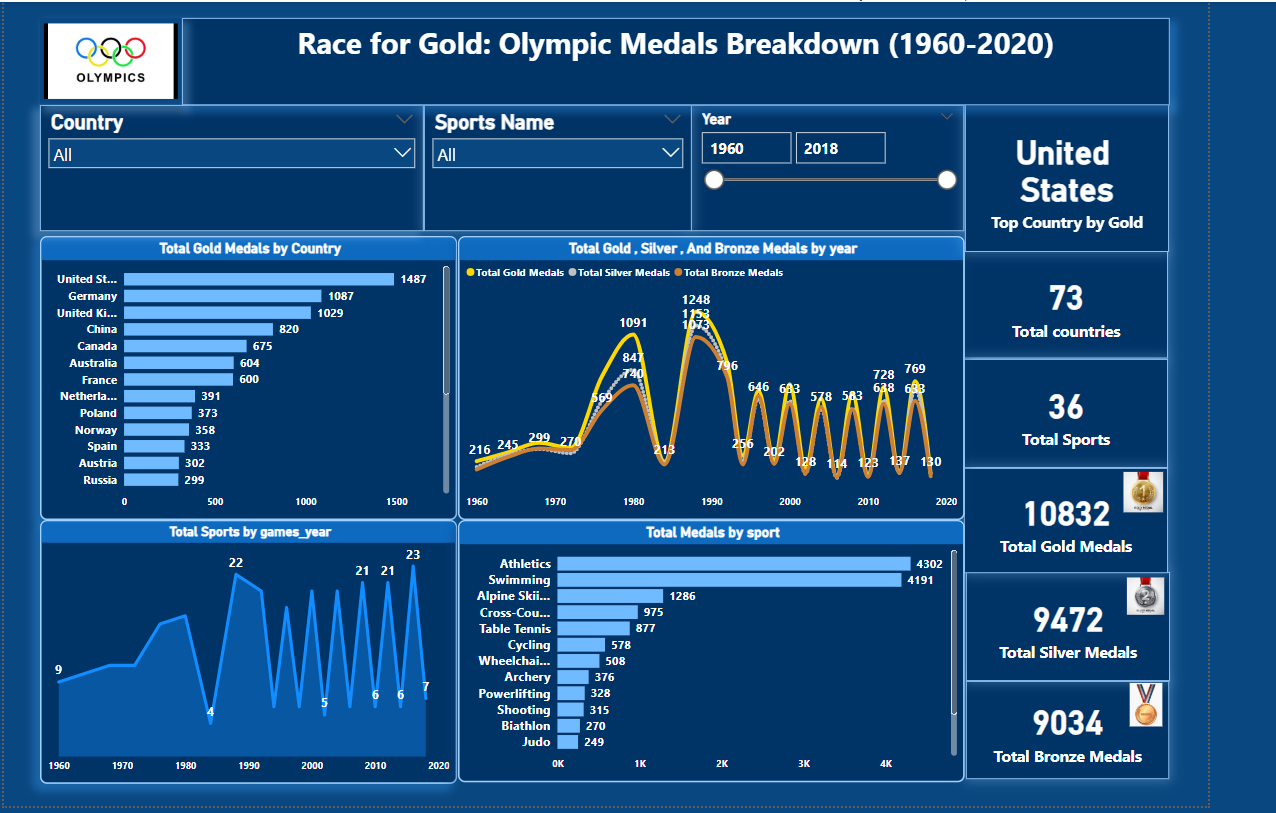

Layout of this report page (visuals, bound fields, positions):
{"tool":"powerbi","page":{"name":"Page 1","canvas":[1548,1033],"ordinal":0},"visuals":[{"type":"card","fields":{"Values":["Sheet1.Total countries"]},"box":[1233.8,320.2,262.1,138.1],"z":0},{"type":"card","fields":{"Values":["Sheet1.Total Sports"]},"box":[1233.8,458.3,262.1,139.9],"z":1000},{"type":"card","fields":{"Values":["Sheet1.Total Bronze Medals"]},"box":[1236.2,872.8,260.8,125.7],"z":2000},{"type":"card","fields":{"Values":["Sheet1.Total Silver Medals"]},"box":[1235.5,732.8,262.1,139.9],"z":3000},{"type":"card","fields":{"Values":["Sheet1.Total Gold Medals"]},"box":[1233.8,598.2,262.1,134.6],"z":4000},{"type":"barChart","title":"Total Gold Medals by Country ","fields":{"Category":["Sheet1.npc_name"],"Y":["Sheet1.Total Gold Medals"]},"box":[46.9,300.3,536,364.8],"z":5000},{"type":"lineChart","title":"Total  Gold , Silver , And Bronze  Medals  by  year","fields":{"Category":["Sheet1.games_year"],"Y":["Sheet1.Total Gold Medals","Sheet1.Total Silver Medals","Sheet1.Total Bronze Medals"]},"box":[582.9,300.3,651.4,364.8],"z":6000},{"type":"areaChart","fields":{"Y":["Sheet1.Total Sports"],"Category":["Sheet1.games_year"]},"box":[46.9,665.1,536,338.7],"z":7000},{"type":"barChart","fields":{"Y":["Sheet1.Total Medals"],"Category":["Sheet1.sport"]},"box":[582.9,665.1,651.4,336.9],"z":8000},{"type":"slicer","fields":{"Values":["Sheet1.games_country"]},"box":[46.9,132.8,493.2,161.9],"z":9000},{"type":"slicer","fields":{"Values":["Sheet1.games_year"]},"box":[882.7,132.3,350.8,161.9],"z":10000},{"type":"slicer","fields":{"Values":["Sheet1.sport"]},"box":[540.1,132.8,344.3,161.9],"z":11000},{"type":"card","fields":{"Values":["Sheet1.Top Country by Gold"]},"box":[1234.3,130.9,262.4,189.8],"z":12000},{"type":"image","box":[1431.3,598.7,64.2,61.7],"z":13000},{"type":"image","box":[1437.7,732.4,57.8,63],"z":14000},{"type":"image","box":[1413.3,869.8,107.9,65.5],"z":15000},{"type":"textbox","box":[228.7,20.6,1269.4,111.8],"z":16000},{"type":"image","box":[46.3,20.6,182.4,111.8],"z":17000}]}

Visuals, with their boxes in screenshot pixels (x1, y1, x2, y2):
card - Sheet1.Total countries: (959, 249, 1163, 356)
card - Sheet1.Total Sports: (959, 356, 1163, 465)
card - Sheet1.Total Bronze Medals: (961, 678, 1163, 776)
card - Sheet1.Total Silver Medals: (960, 570, 1164, 678)
card - Sheet1.Total Gold Medals: (959, 465, 1163, 570)
"Total Gold Medals by Country " barChart: (36, 233, 453, 517)
"Total  Gold , Silver , And Bronze  Medals  by  year" lineChart: (453, 233, 959, 517)
areaChart - Sheet1.Total Sports x Sheet1.games_year: (36, 517, 453, 780)
barChart - Sheet1.Total Medals x Sheet1.sport: (453, 517, 959, 779)
slicer - Sheet1.games_country: (36, 103, 420, 229)
slicer - Sheet1.games_year: (686, 103, 959, 229)
slicer - Sheet1.sport: (420, 103, 687, 229)
card - Sheet1.Top Country by Gold: (959, 102, 1163, 249)
image: (1112, 465, 1162, 513)
image: (1117, 569, 1162, 618)
image: (1098, 676, 1182, 727)
textbox: (178, 16, 1164, 103)
image: (36, 16, 178, 103)
